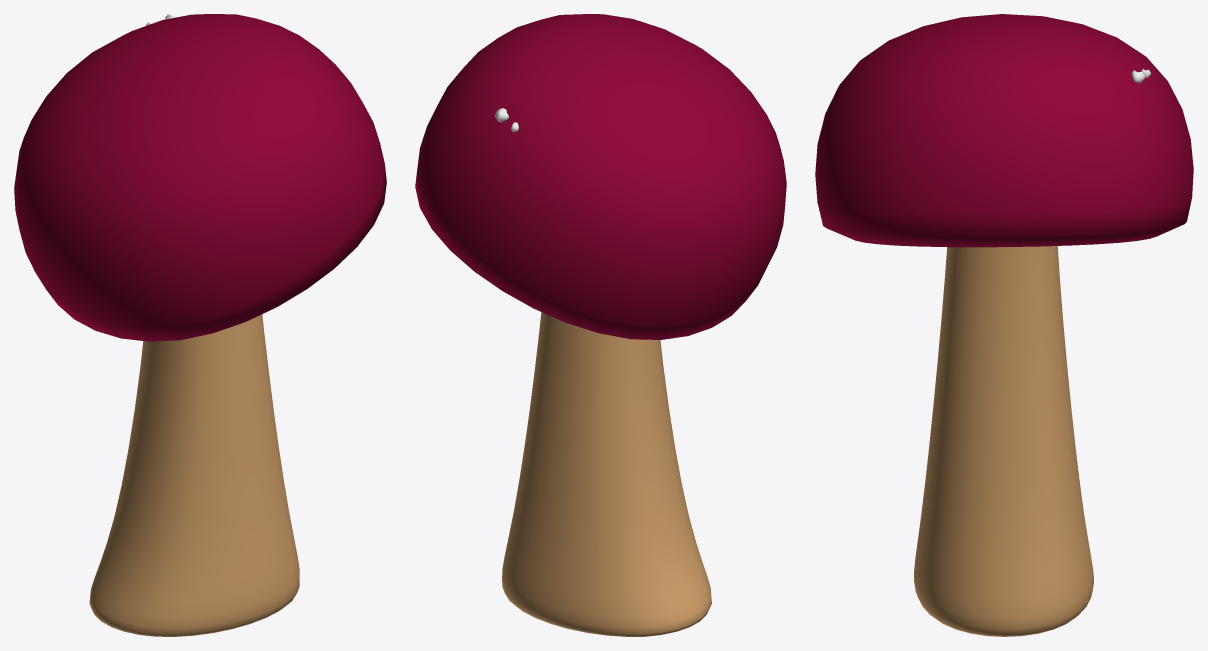
Rendered from Pilzfuß.fbx.
3 views of the same model, side by side, from view 1: azimuth 30°, elevation 25°; view 2: azimuth 150°, elevation 25°; view 3: azimuth 270°, elevation 25° (orthographic). The views are drawn at different scales.
Visible parts, largest first — view 1: Cap Fliegenpilz, Cube; view 2: Cap Fliegenpilz, Cube; view 3: Cap Fliegenpilz, Cube.
Part boxes in pixels (x1,y1,x2,y2): Cap Fliegenpilz: [14, 14, 386, 341]; Cube: [89, 314, 299, 636]; Cap Fliegenpilz: [415, 14, 786, 339]; Cube: [502, 312, 711, 636]; Cap Fliegenpilz: [815, 14, 1193, 247]; Cube: [914, 246, 1093, 636].
Size of the model in its own units: 196 by 332 by 197.
